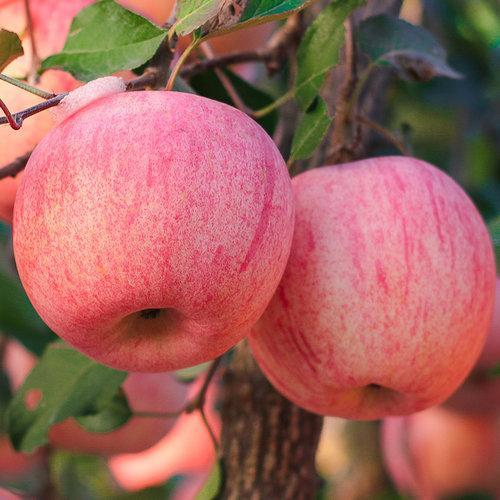apple: (10, 88, 294, 372), (248, 158, 497, 422)
